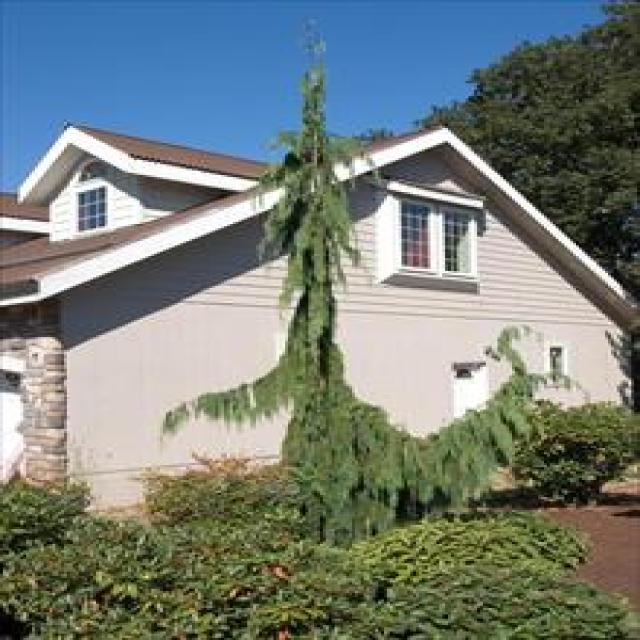Cupressus nootkatensis: (173, 27, 537, 550)
